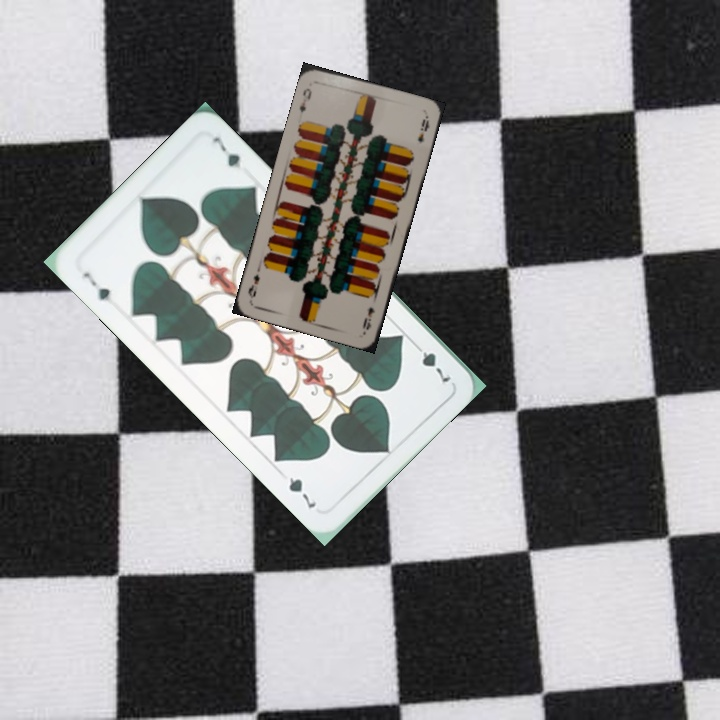E9: (295, 84, 314, 115), (358, 303, 378, 332)
G7: (409, 338, 453, 386), (79, 268, 116, 310)
